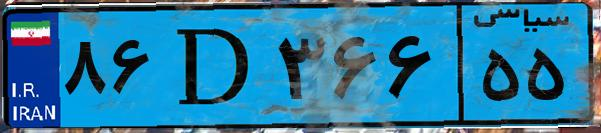3: (270, 28, 330, 110)
5: (475, 38, 525, 113), (525, 38, 570, 115)
6: (385, 28, 445, 110), (330, 28, 385, 110), (110, 28, 158, 98)
8: (57, 26, 110, 100)
D: (158, 12, 270, 120)
